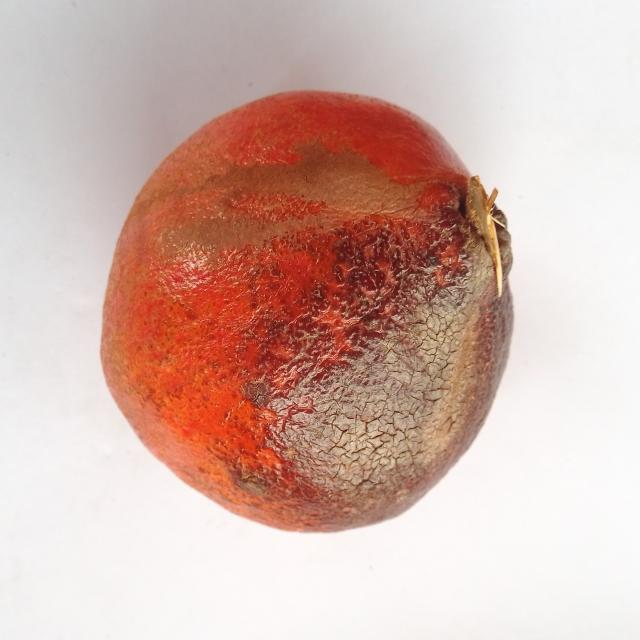overripe: (94, 88, 528, 540)
